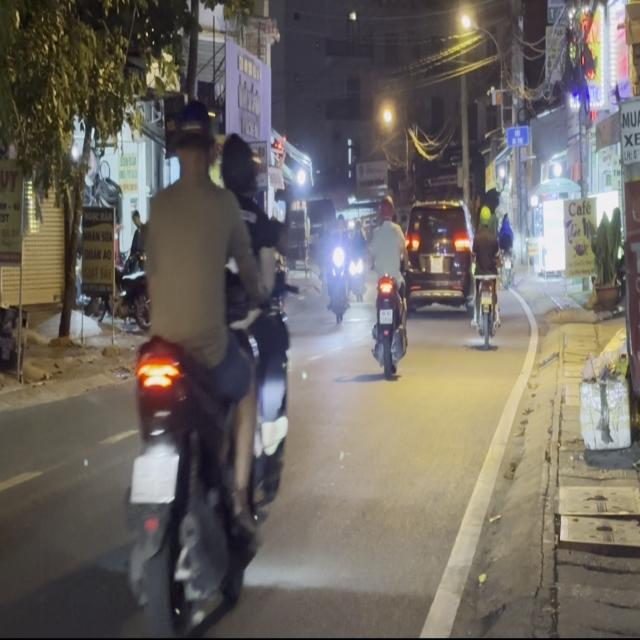helmet: (170, 97, 216, 182)
licenseplate: (122, 92, 294, 630)
motorcyclist: (216, 131, 258, 207)
nohelmet: (130, 451, 178, 502)
